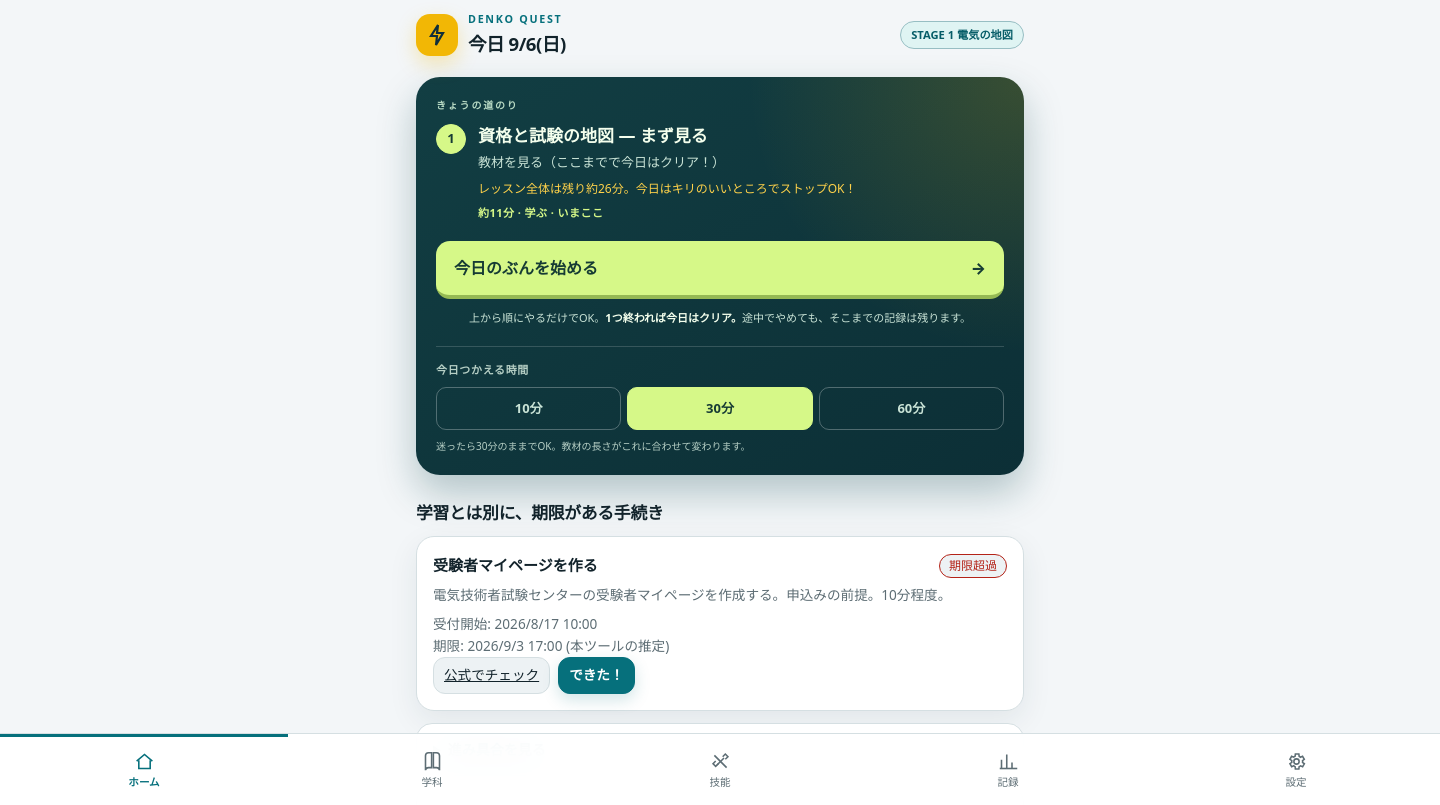
Scenario: 段階ごとに学習時間が残る › 「見る」だけで閉じても、その時間が記録される
Click the button "今日のぶんを始める →".
click(526, 268)  # box [436, 241, 1004, 299]
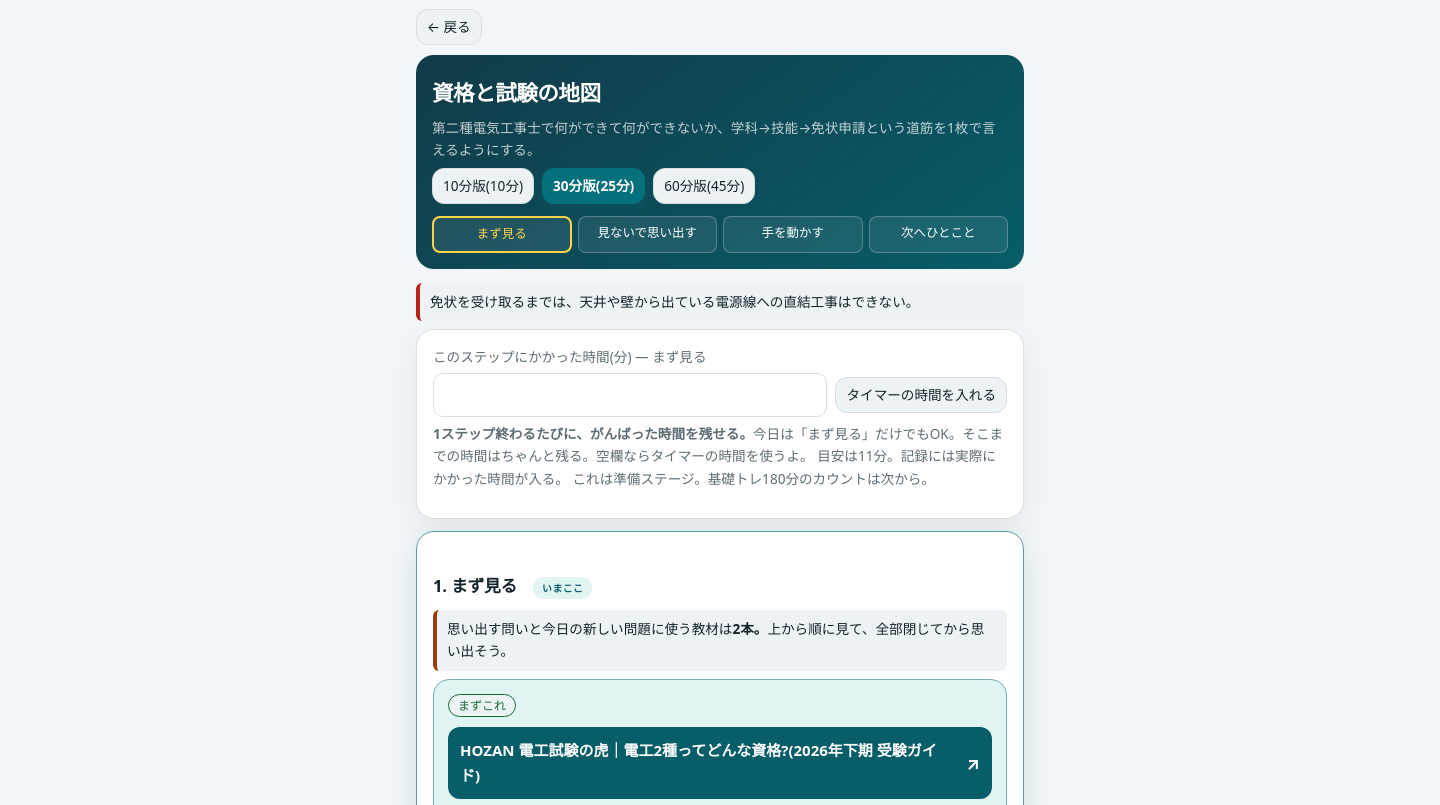
Check: the heading "資格と試験の地図" is shown, box [432, 78, 600, 107]
Type "12" into the number field labelled "このステップにかかった時間(分) — まず見る".
click(630, 395); type("12")  # box [433, 373, 828, 417]
(page scrolled)
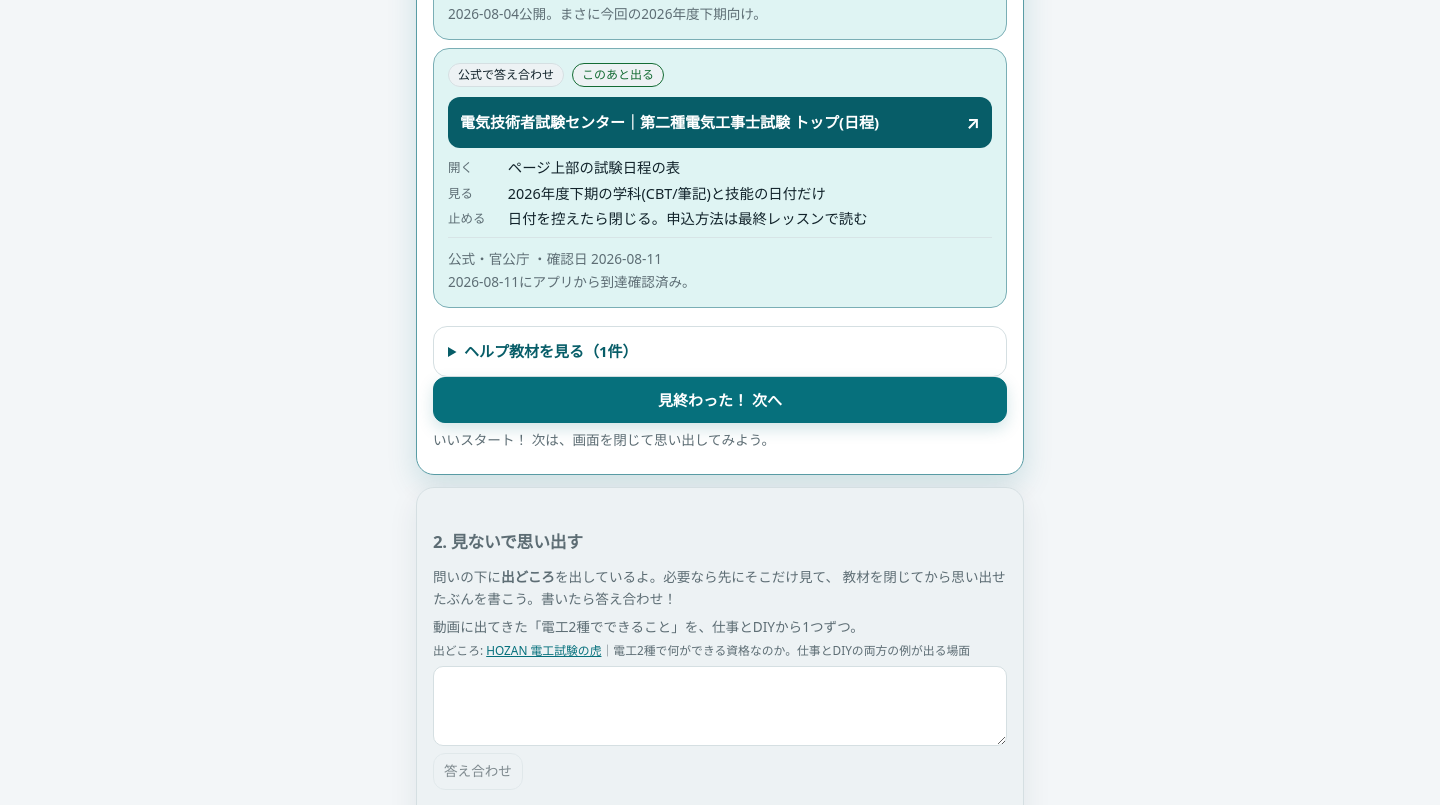
Click the button "見終わった！ 次へ".
click(720, 400)  # box [433, 377, 1007, 424]
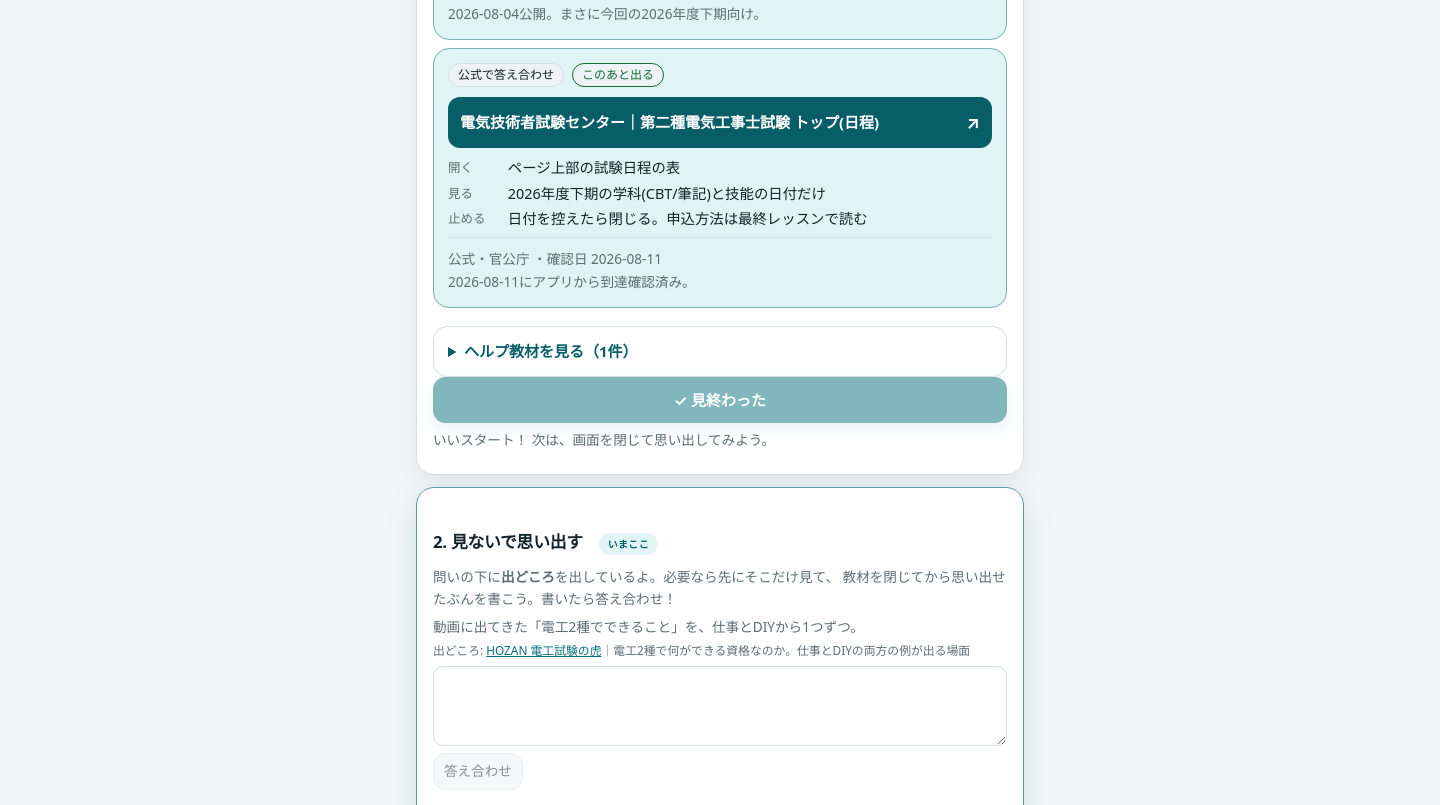
Check: the button "✓ 見終わった" is shown, box [433, 377, 1007, 424]
